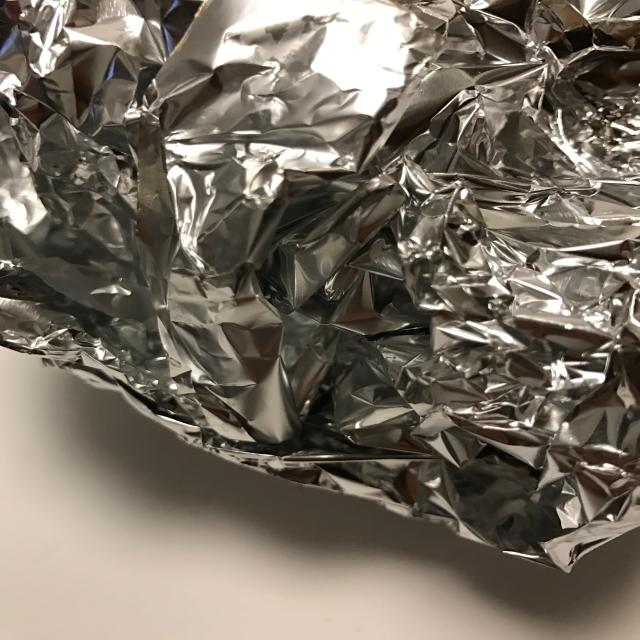metal: (1, 0, 639, 573)
